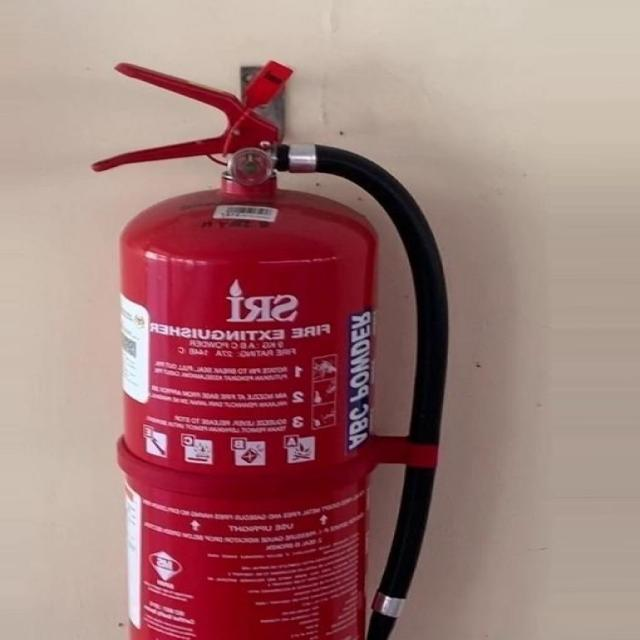fire_extinguisher: (80, 57, 461, 639)
